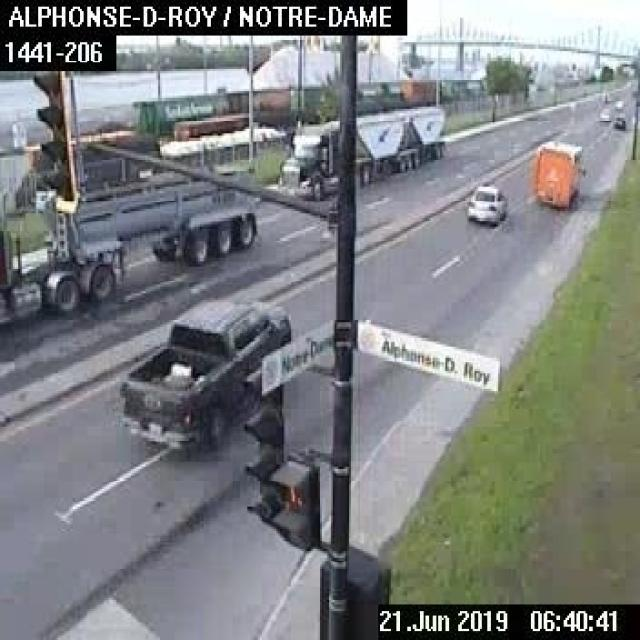vehicle: (0, 154, 262, 322), (113, 293, 289, 447), (272, 99, 449, 204), (527, 136, 584, 213), (463, 180, 508, 225), (610, 109, 626, 132)
